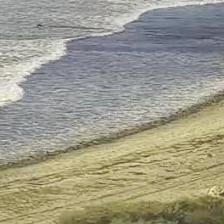surfer: (37, 24, 42, 28)
